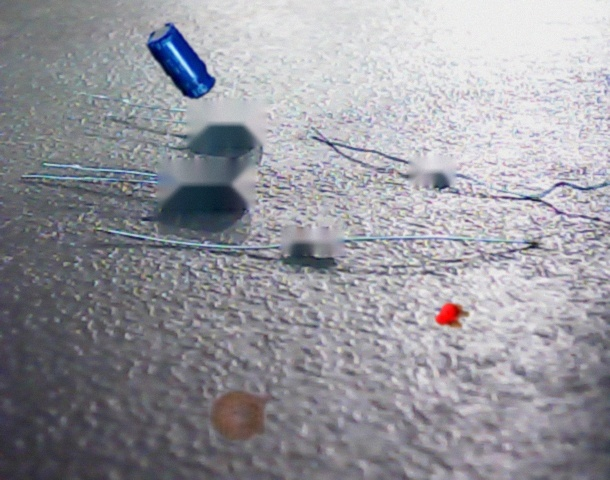capacitor: (147, 22, 216, 99), (209, 390, 271, 441), (435, 303, 470, 328)
